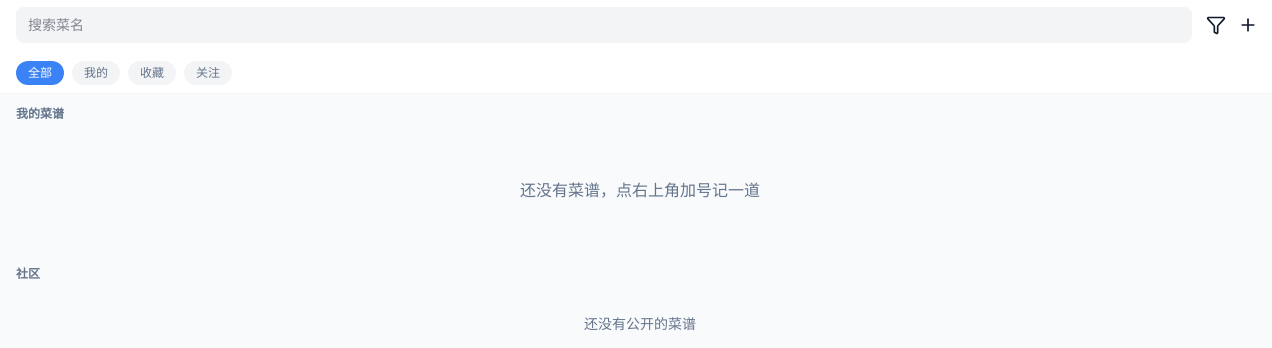
it: RecipeList › 收藏的别人菜谱第三行是作者，用本地落库的昵称与头像
Click the button with test id "tab-fav" at (152, 73), box [128,61,176,85]
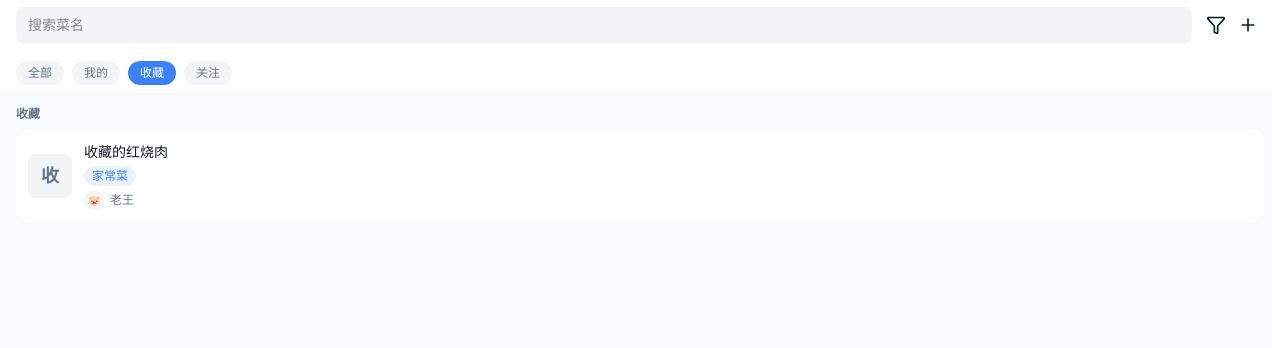
Expected: the text with test id "recipe-author" reads "老王", [110,192,134,207]
Expected: the element with test id "recipe-author-avatar" reads "🐷", [88,194,100,206]
